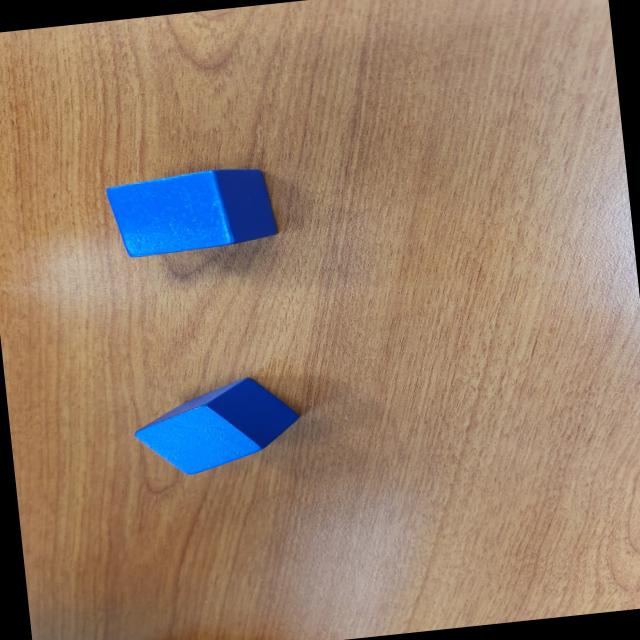blue: (127, 372, 305, 481), (102, 163, 282, 260)
